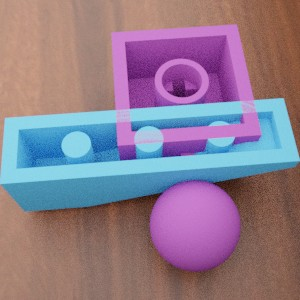lego: (111, 24, 261, 271), (0, 98, 299, 211)
